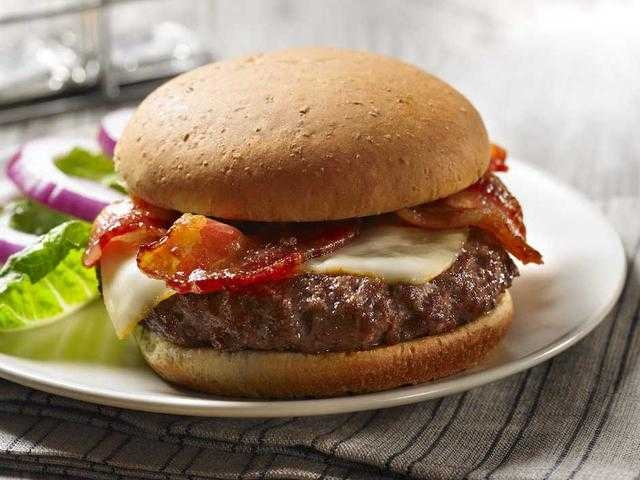hamburger: (122, 48, 523, 385)
